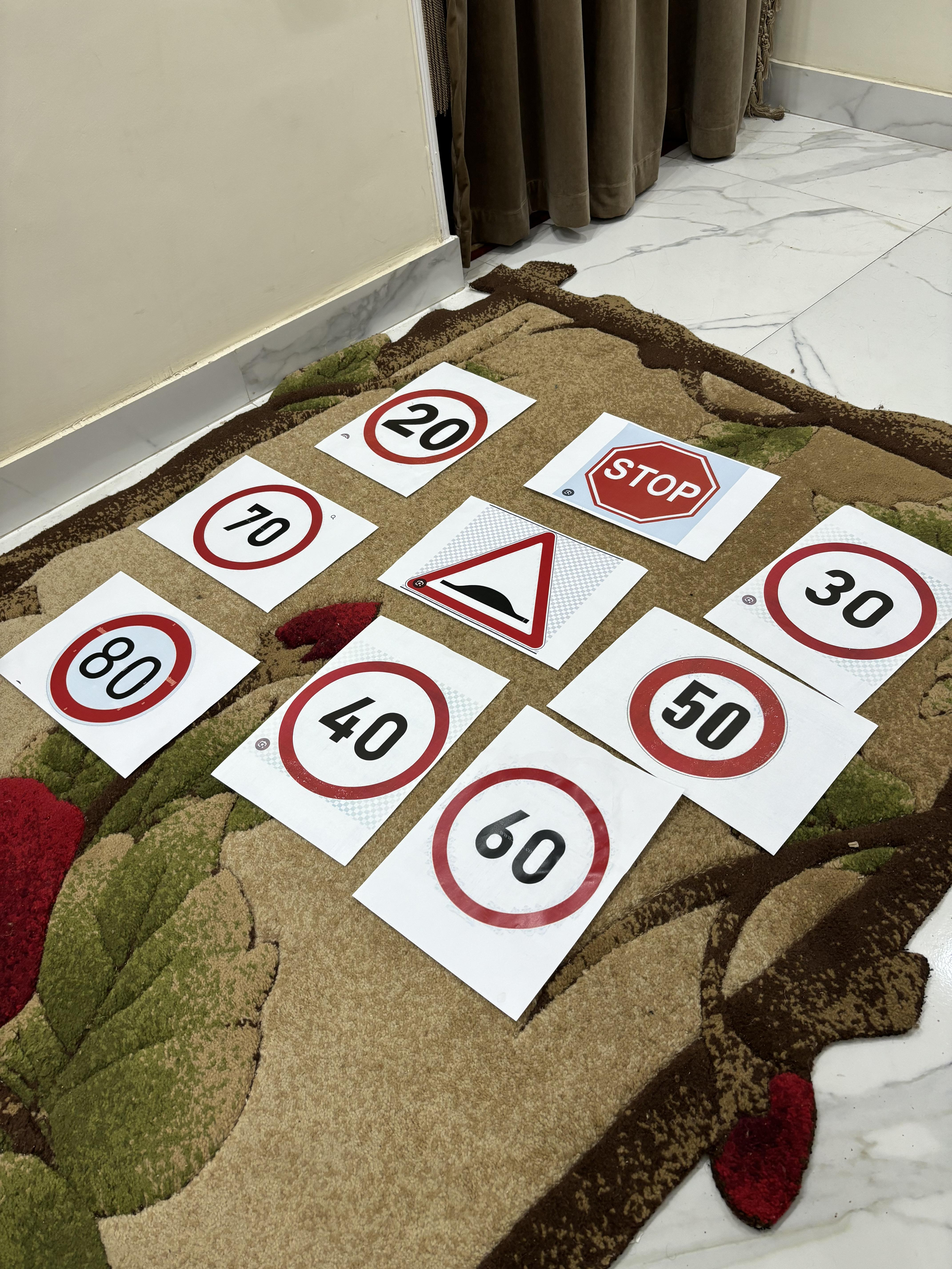20-Speed: (365, 376, 488, 477)
30-speed: (758, 536, 941, 662)
40-Speed: (283, 654, 445, 797)
50-Speed: (629, 642, 801, 785)
60-Speed: (432, 762, 614, 931)
70-Speed: (189, 474, 322, 568)
80-Speed: (54, 605, 180, 717)
Hump: (398, 511, 573, 645)
Stop: (572, 418, 722, 534)
